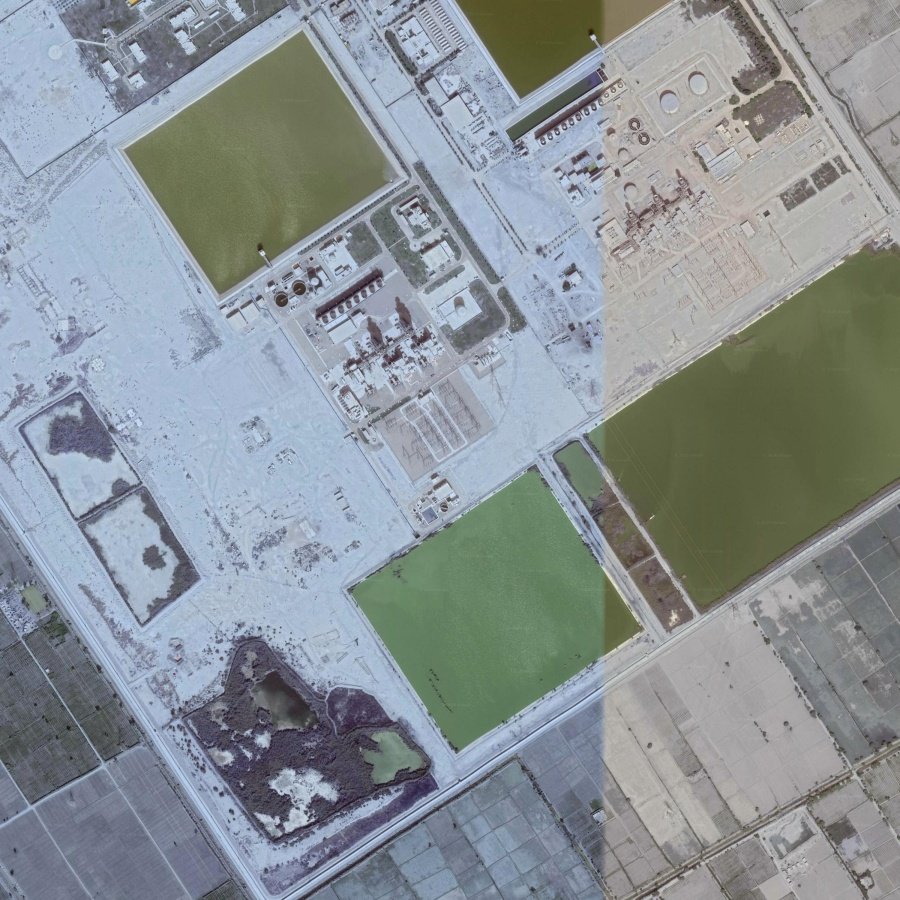PowerPlant: (271, 193, 513, 514), (553, 72, 748, 266)
